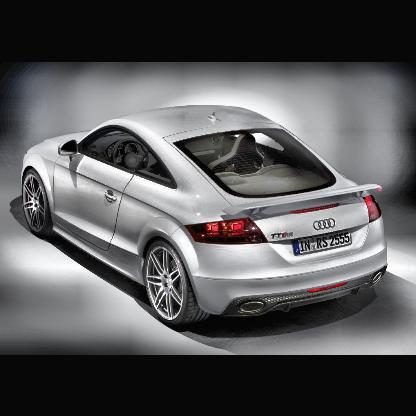Audi TT Hatchback 2011: (18, 109, 397, 334)
